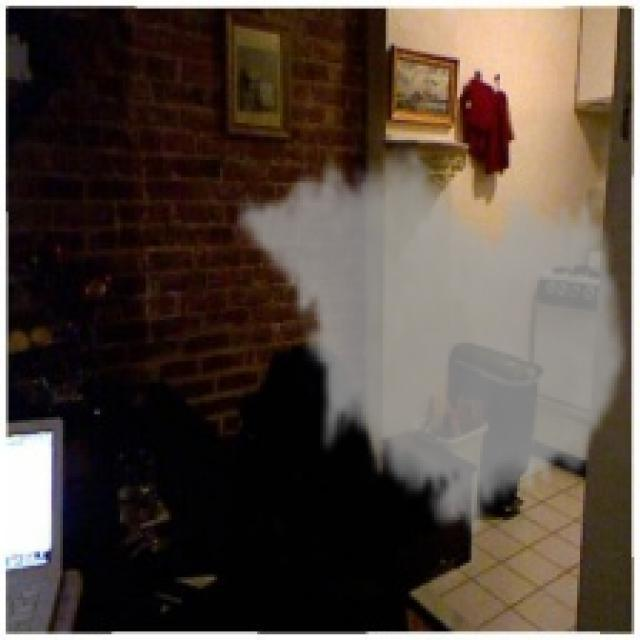Smoke: (234, 135, 632, 540)
